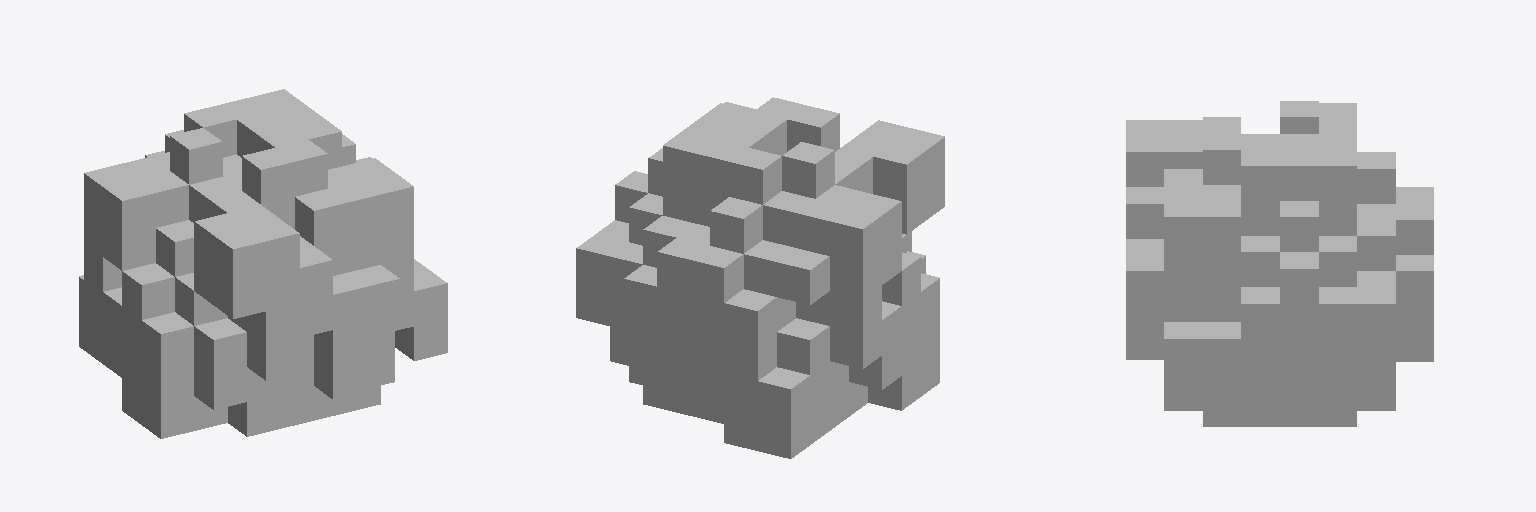
The model's file is Bush2.obj.
The picture shows the model from 3 angles: view 1: azimuth 30°, elevation 25°; view 2: azimuth 150°, elevation 25°; view 3: azimuth 270°, elevation 25°; orthographic projection.
Visible parts, largest first — view 1: object 1; view 2: object 1; view 3: object 1.
Boxes of the visible parts, <box> form: object 1: <box>79,89,447,438</box>; object 1: <box>576,97,944,458</box>; object 1: <box>1126,101,1433,426</box>.
Size of the model in its own units: 0.8 by 0.7 by 0.8.